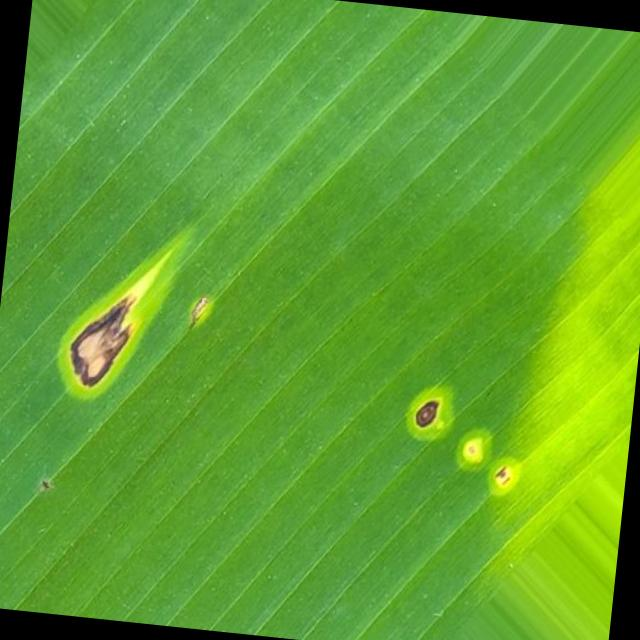Banana_Black_Sigatoka: (334, 299, 584, 582), (5, 222, 240, 446)
